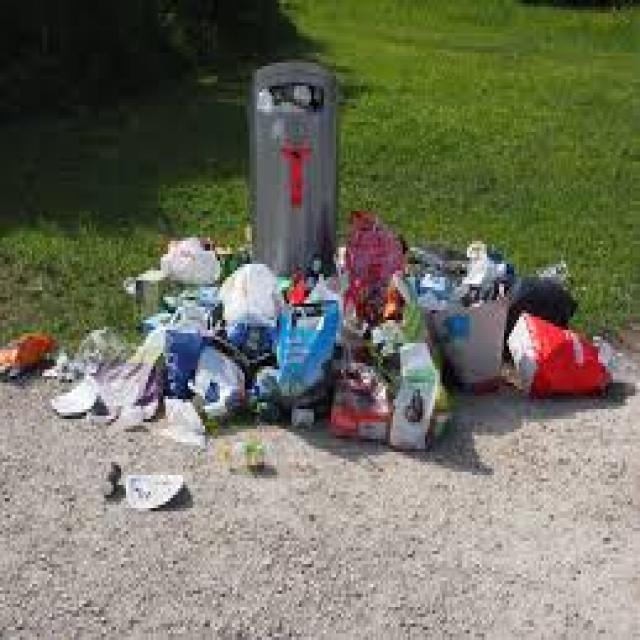garbage: (155, 244, 606, 439), (0, 330, 178, 498)
